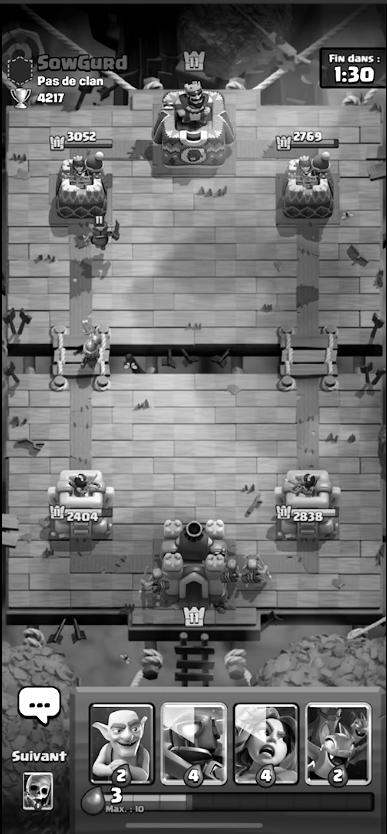mini_PEKKA: (82, 216, 126, 254)
mousquetaire: (80, 334, 101, 369)
